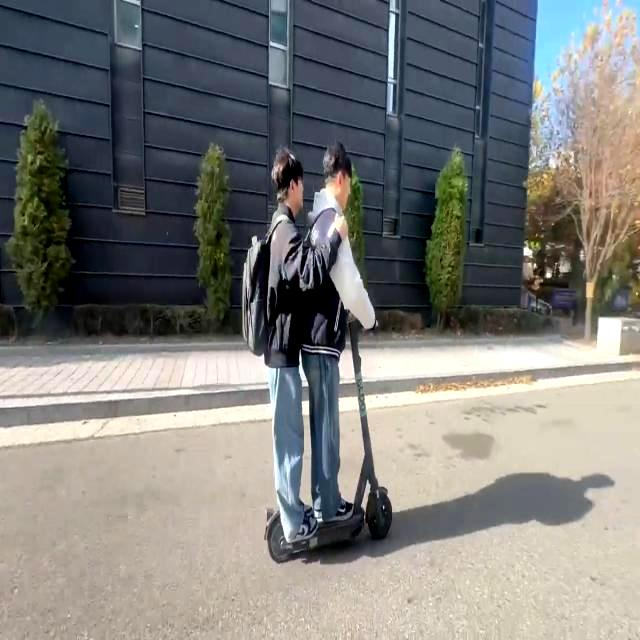bare_head: (313, 143, 364, 215), (261, 151, 310, 214)
human: (290, 138, 372, 524), (239, 155, 317, 536)
kickboard: (261, 477, 406, 560)
